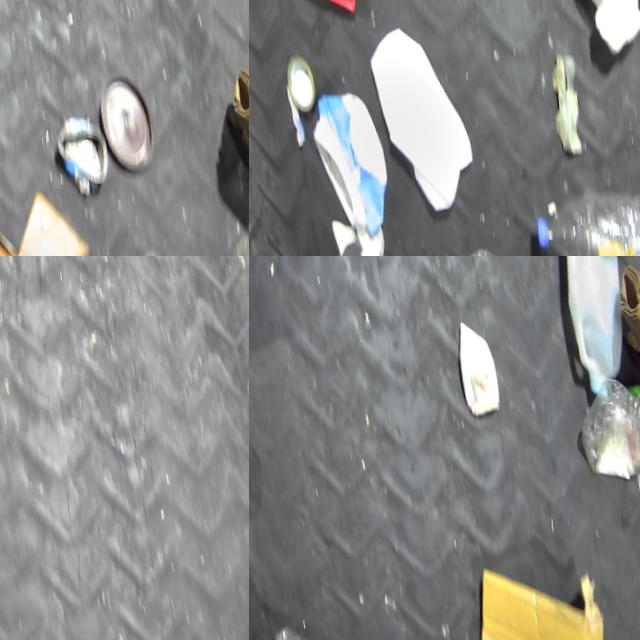can: (49, 101, 111, 186), (280, 45, 316, 113)
milk_jug: (360, 10, 477, 215), (544, 256, 637, 388)
plastic_bottle: (524, 159, 640, 256), (262, 603, 381, 640)
